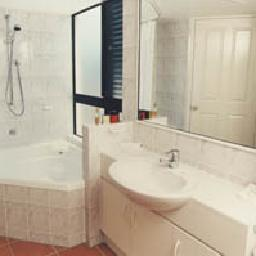Lavamanos: (111, 150, 199, 216)
